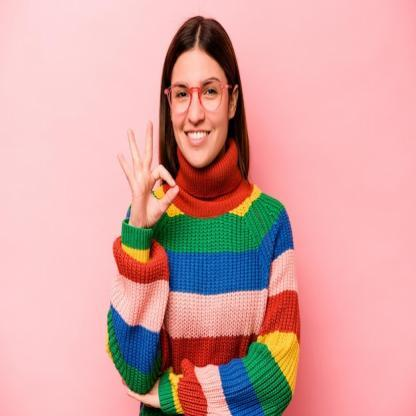ok: (115, 118, 180, 229)
